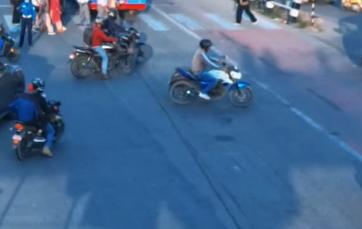bike: (164, 54, 255, 108), (7, 98, 73, 160), (63, 35, 141, 82)
